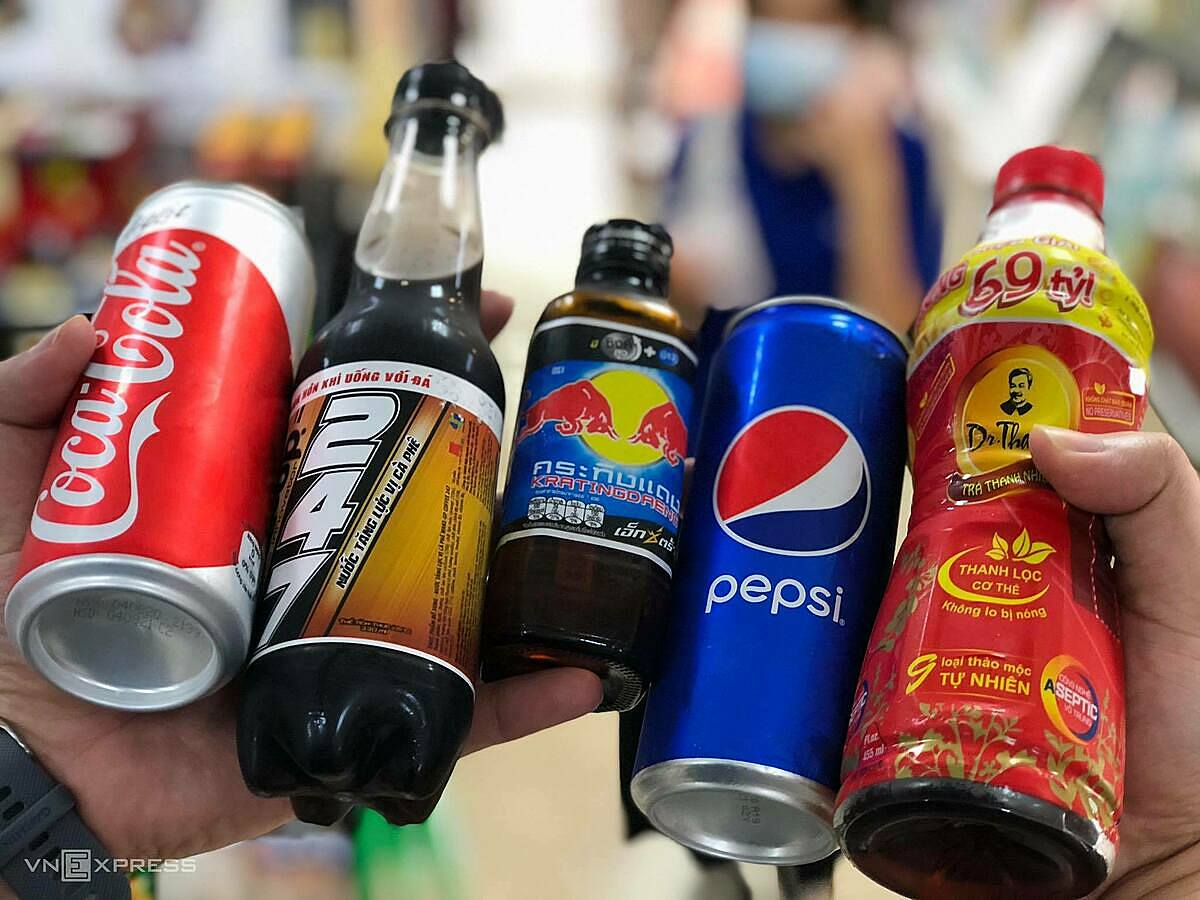247: (254, 389, 401, 651)
cocacola: (33, 226, 204, 545)
drthanh: (965, 359, 1065, 465)
pepsi: (711, 395, 873, 562)
redbull: (522, 372, 691, 471)
